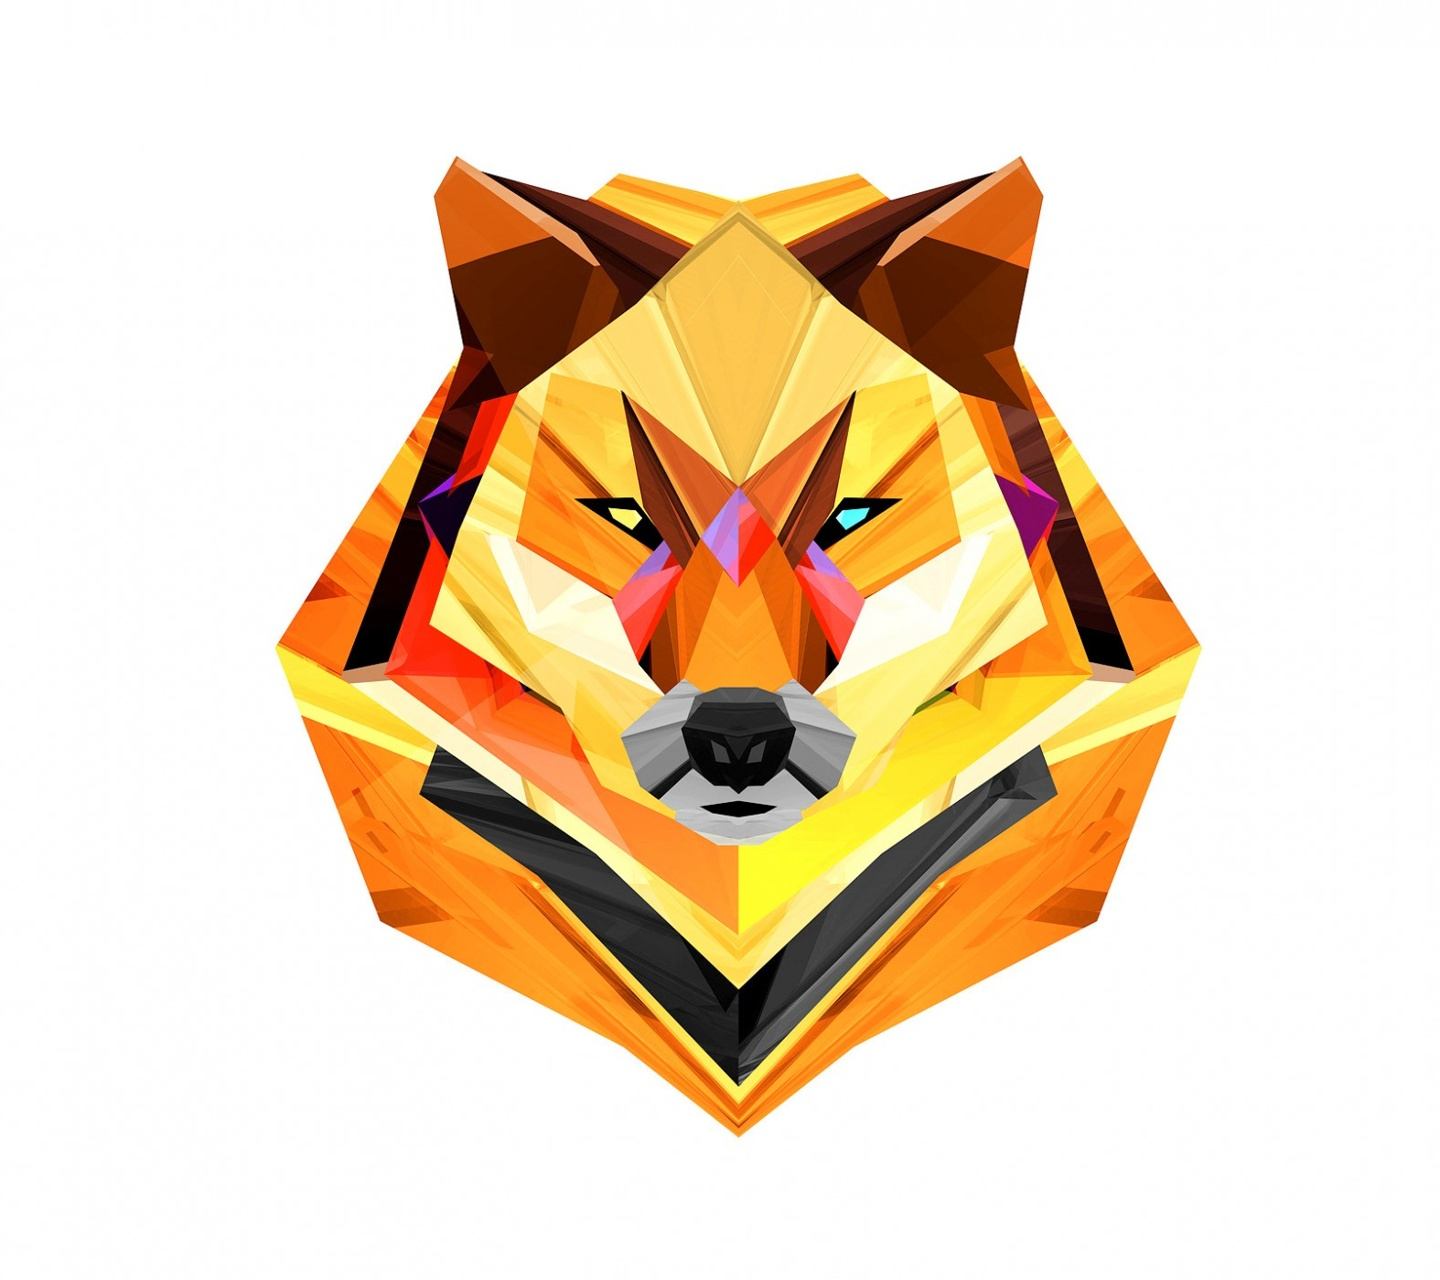Lobo: (295, 112, 1140, 970)
